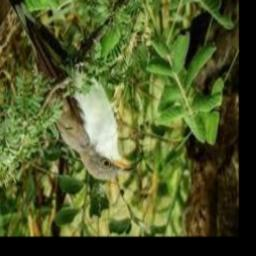Cuckoo: (0, 0, 136, 179)
